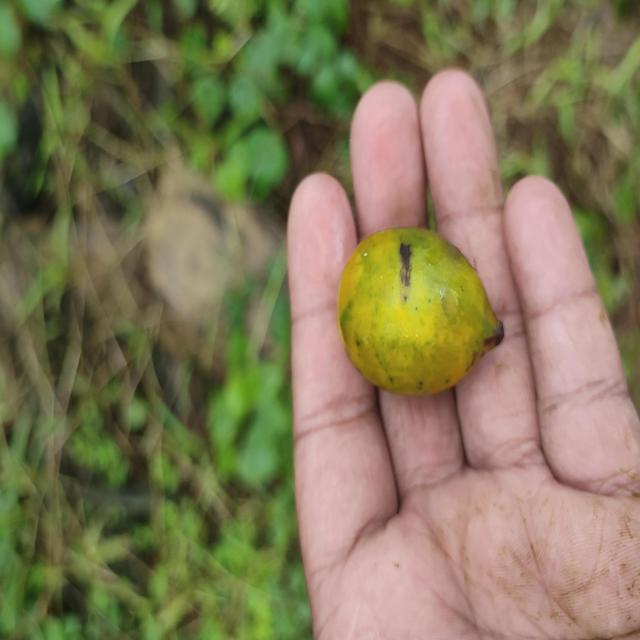good: (336, 228, 504, 399)
